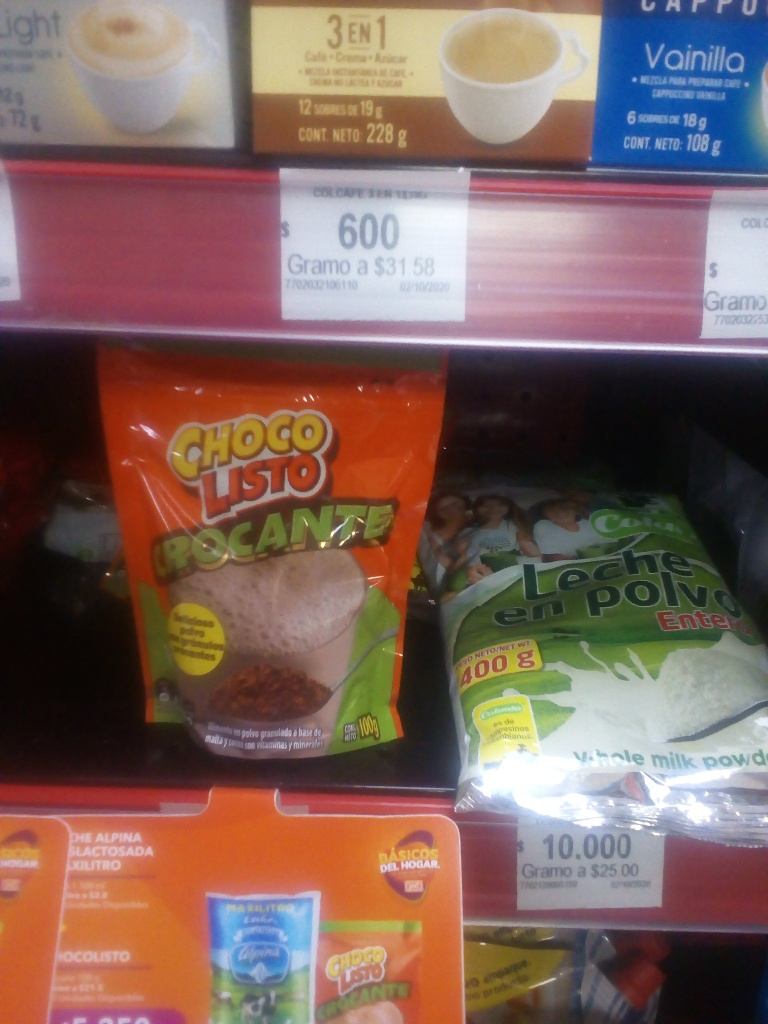COL0170102DYP10000: (95, 344, 434, 751)
